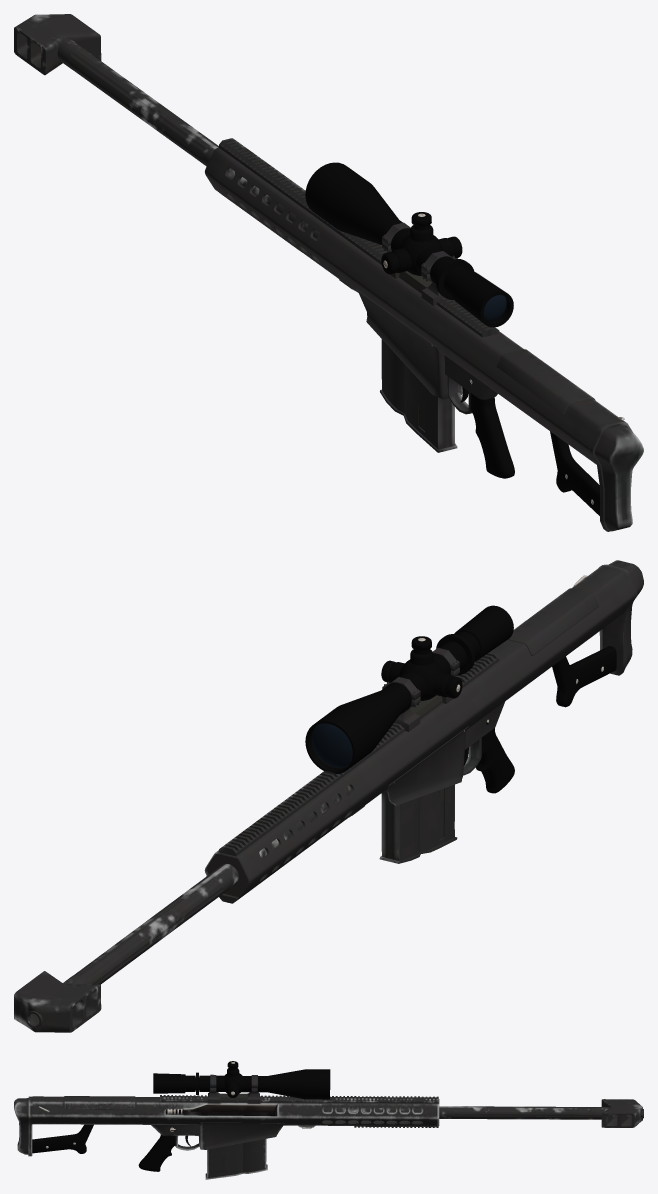
3 renders of one model, top to bottom at view 1: azimuth 30°, elevation 25°; view 2: azimuth 150°, elevation 25°; view 3: azimuth 270°, elevation 25°, orthographic. The views are drawn at different scales.
Visible parts, largest first — view 1: body, magazine; view 2: body, magazine; view 3: body, magazine, bolt.
Part boxes in pixels (x1,y1,x2,y2): body: (14, 14, 643, 531); magazine: (380, 339, 457, 452); body: (14, 560, 643, 1032); magazine: (379, 784, 457, 863); body: (14, 1061, 643, 1171); magazine: (205, 1138, 267, 1179); bolt: (165, 1104, 277, 1116).
Bounding box in the file's own units: 0.1038 × 0.2912 × 1.45.
3 materials, 3 textured.
